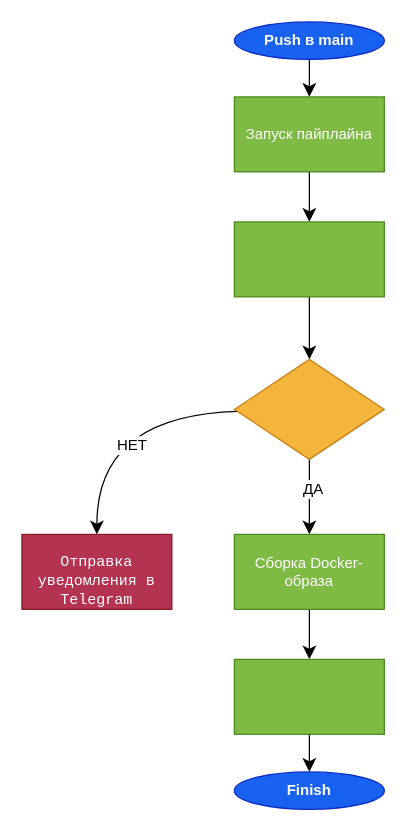
Image size: 406x831. Some labels were removed from this diagram. Each missing label, with the box of its shape:
Запуск тестов: (233, 221, 384, 297)
Пуш Docker-образа в Docker Hub: (233, 658, 384, 734)
Тесты прошли?: (233, 358, 384, 459)
